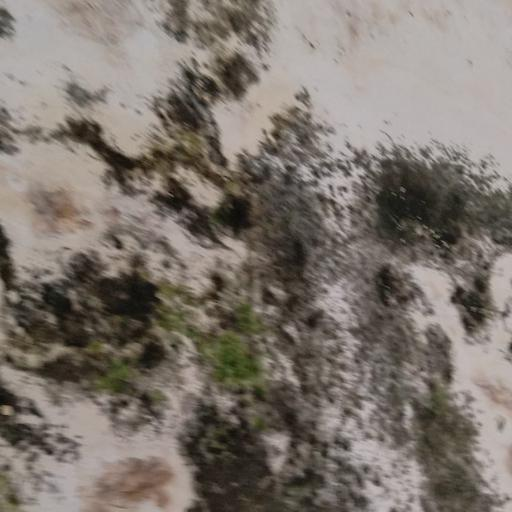algae: (0, 29, 512, 512)
